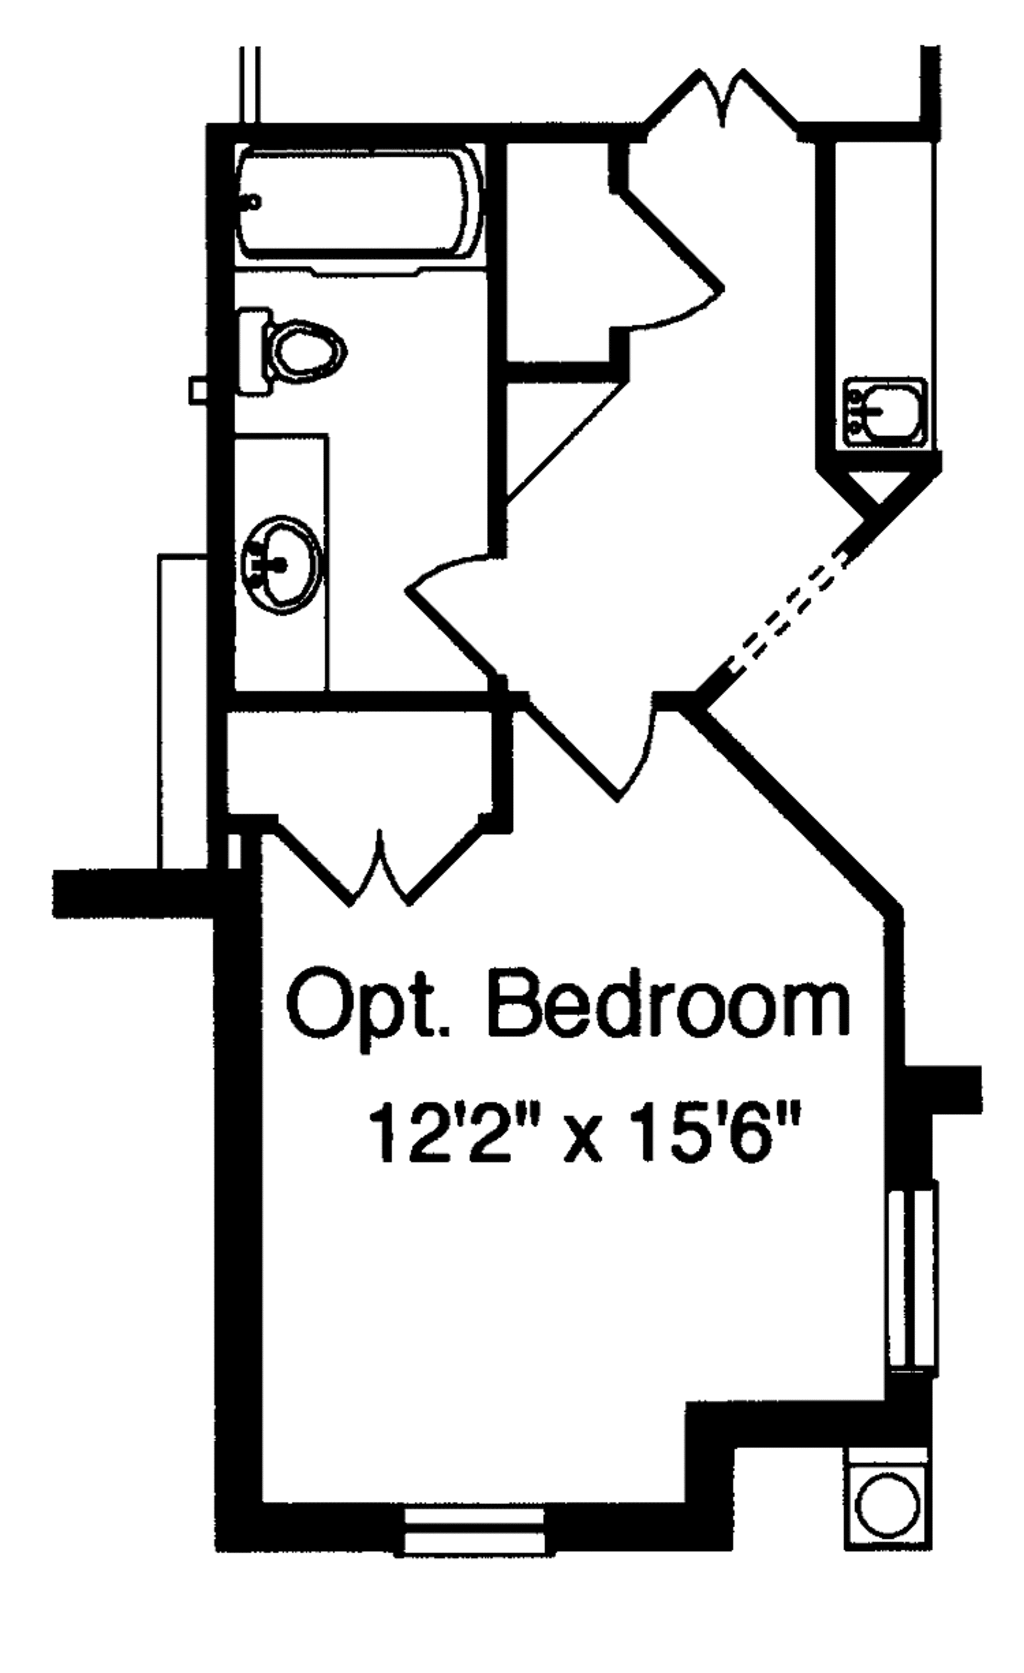door: (271, 779, 492, 920), (594, 190, 743, 338), (505, 687, 666, 813), (390, 541, 515, 678), (630, 65, 805, 141)
large_sink: (232, 290, 352, 406)
sink: (833, 361, 954, 449)
small_sink: (225, 439, 341, 695)
tub: (235, 137, 484, 282)
window: (871, 1184, 943, 1372), (397, 1495, 562, 1564)
